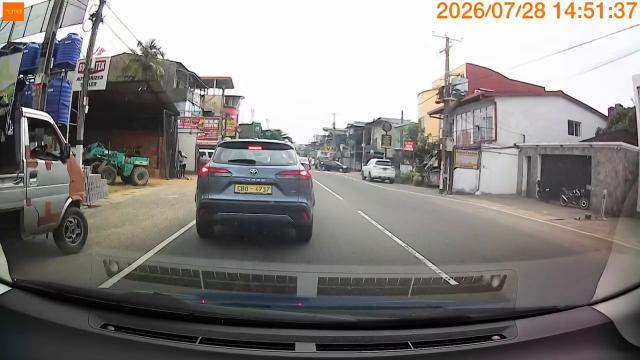number plate: (231, 183, 274, 194)
